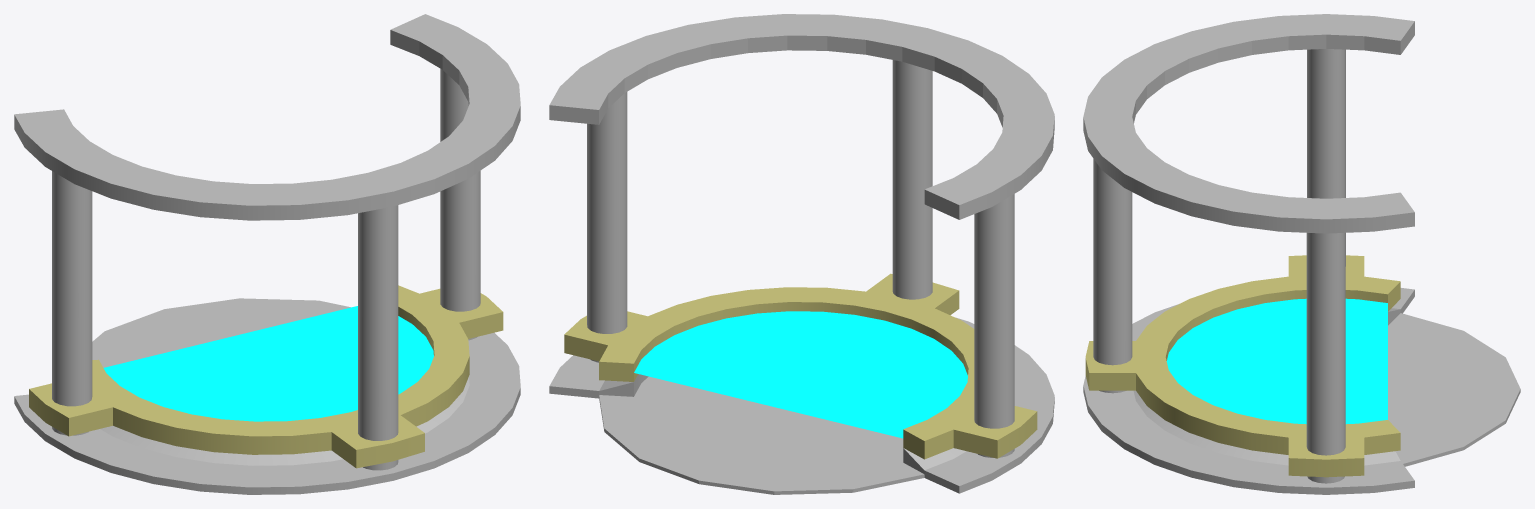
Rendered from DroidFabricator.fbx.
The picture shows the model from 3 angles, left to right: view 1: azimuth 30°, elevation 25°; view 2: azimuth 150°, elevation 25°; view 3: azimuth 270°, elevation 25°; orthographic projection. The views are drawn at different scales.
Parts seen in each view (by area): view 1: Top, Pillar, Fabricator, Base, Field, Floor; view 2: Top, Pillar, Field, Floor, Fabricator, Base; view 3: Top, Pillar, Fabricator, Field, Floor, Base.
Part boxes in pixels (x1,y1,x2,y2): Top: (14,14,520,220); Pillar: (52,69,480,470); Fabricator: (29,285,503,468); Base: (14,332,520,494); Field: (103,306,433,421); Floor: (92,298,350,367); Top: (549,14,1054,219); Pillar: (587,60,1014,457); Field: (634,311,967,438); Floor: (599,376,924,494); Fabricator: (564,273,1037,459); Base: (549,317,1054,493); Top: (1083,14,1414,233); Pillar: (1093,49,1345,483); Fabricator: (1085,255,1400,477); Field: (1166,298,1387,424); Floor: (1388,313,1520,466); Base: (1083,288,1414,494).
Bounding box in the file's own units: 250 × 157 × 225.
